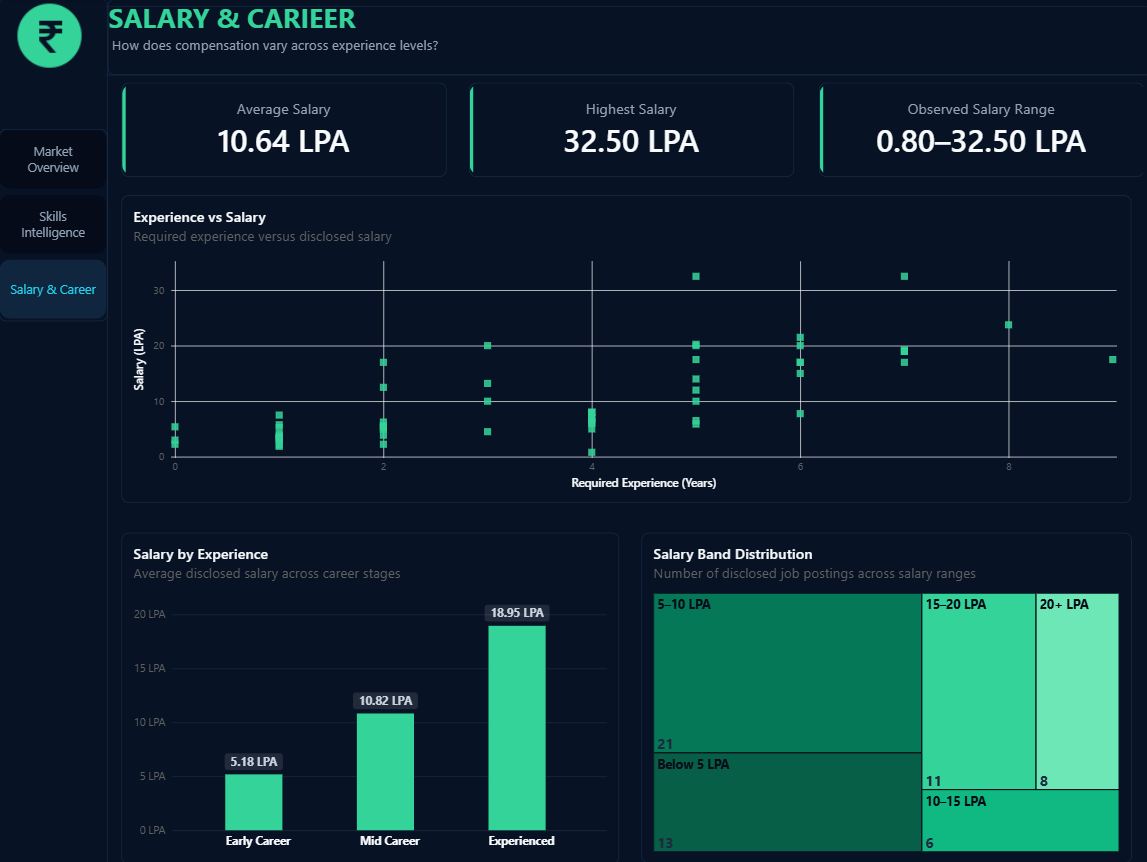

The page's visual inventory and layout, read from the dashboard file:
{"tool":"powerbi","page":{"name":"Salary & Career","canvas":[1600,1200],"ordinal":2},"visuals":[{"type":"shape","box":[0,10,1600.4,95],"z":0},{"type":"shape","box":[0,0,150.5,1250.1],"z":1000},{"type":"pageNavigator","box":[0,180.3,150.5,266.7],"z":2000},{"type":"textbox","box":[150.5,0,1449.8,105.8],"z":3000},{"type":"cardVisual","fields":{"Data":["job_market_tracker data_analyst_jobs.Average Salary"]},"box":[169.7,116.1,450,130],"z":4000},{"type":"cardVisual","fields":{"Data":["job_market_tracker data_analyst_jobs.Highest Salary"]},"box":[651.1,116.2,450,130],"z":5000},{"type":"cardVisual","fields":{"Data":["job_market_tracker data_analyst_jobs.Observed Salary Range"]},"box":[1136.9,116.2,450,130],"z":6000},{"type":"clusteredColumnChart","title":"Salary by Experience","fields":{"Category":["job_market_tracker data_analyst_jobs.Experience Level"],"Y":["Avg(job_market_tracker data_analyst_jobs.salary_mid_num)"]},"box":[150.5,739.1,703.3,460.4],"z":7000},{"type":"treemap","title":"Salary Band Distribution","fields":{"Group":["job_market_tracker data_analyst_jobs.Salary Band"],"Values":["job_market_tracker data_analyst_jobs.Job Count"]},"box":[874.7,739.1,725.6,460.4],"z":8000},{"type":"scatterChart","title":"Experience vs Salary","fields":{"X":["Avg(job_market_tracker data_analyst_jobs.minimumExperience)"],"Y":["Avg(job_market_tracker data_analyst_jobs.salary_mid_num)"],"Category":["job_market_tracker data_analyst_jobs.jobId"]},"box":[150.5,271.2,1448.3,441.1],"z":9000},{"type":"image","box":[0,0,140.1,101.3],"z":10000}]}

Visuals, with their boxes on the page's 1600x1200 design canvas (x1, y1, x2, y2). These are canvas units, not pixel positions in the 1147x862 screenshot, which may show the page scaled, cropped or inside an application window:
shape: box(0, 10, 1600, 105)
shape: box(0, 0, 150, 1250)
pageNavigator: box(0, 180, 150, 447)
textbox: box(150, 0, 1600, 106)
cardVisual - job_market_tracker data_analyst_jobs.Average Salary: box(170, 116, 620, 246)
cardVisual - job_market_tracker data_analyst_jobs.Highest Salary: box(651, 116, 1101, 246)
cardVisual - job_market_tracker data_analyst_jobs.Observed Salary Range: box(1137, 116, 1587, 246)
"Salary by Experience" clusteredColumnChart: box(150, 739, 854, 1200)
"Salary Band Distribution" treemap: box(875, 739, 1600, 1200)
"Experience vs Salary" scatterChart: box(150, 271, 1599, 712)
image: box(0, 0, 140, 101)
